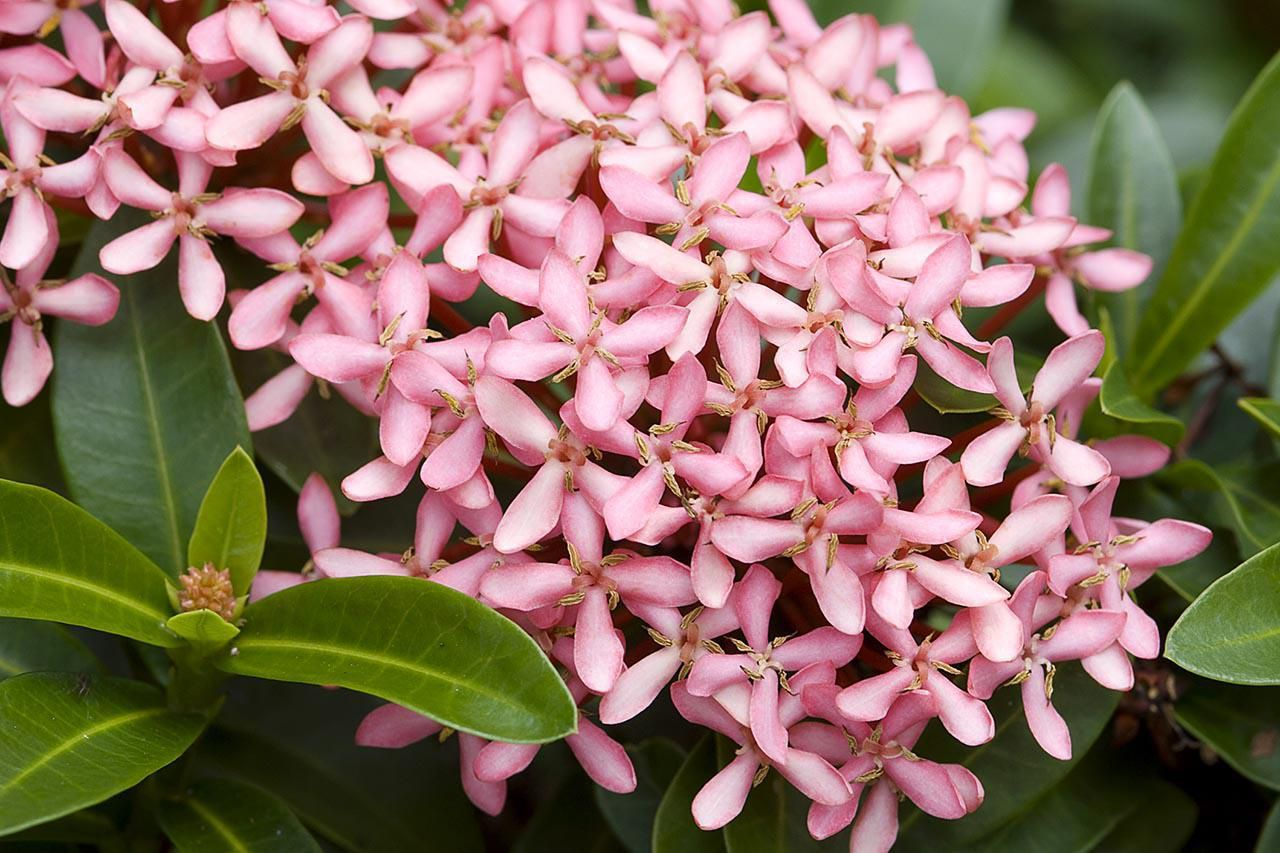ixora: (501, 497, 693, 674), (107, 144, 288, 307), (501, 265, 676, 416), (220, 16, 380, 174), (832, 247, 1001, 392), (395, 129, 584, 251), (616, 232, 797, 357), (309, 262, 466, 404), (693, 588, 844, 734), (0, 206, 118, 387), (981, 579, 1099, 748), (694, 312, 821, 467), (599, 141, 777, 247), (975, 339, 1106, 482), (616, 69, 786, 170), (0, 108, 91, 259)
